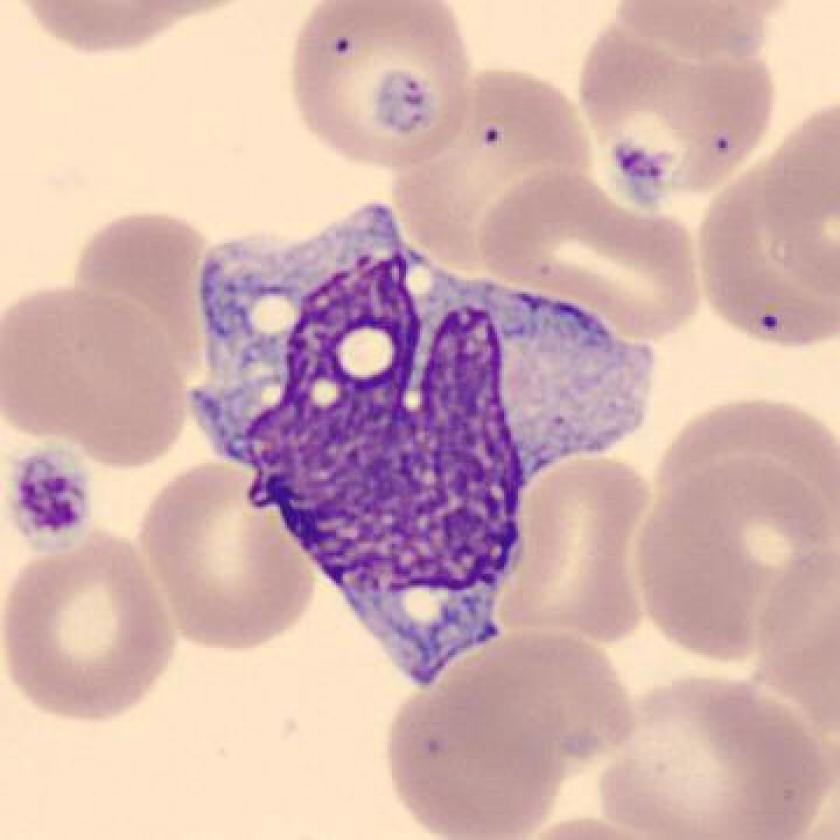monocyte: (164, 182, 671, 705)
